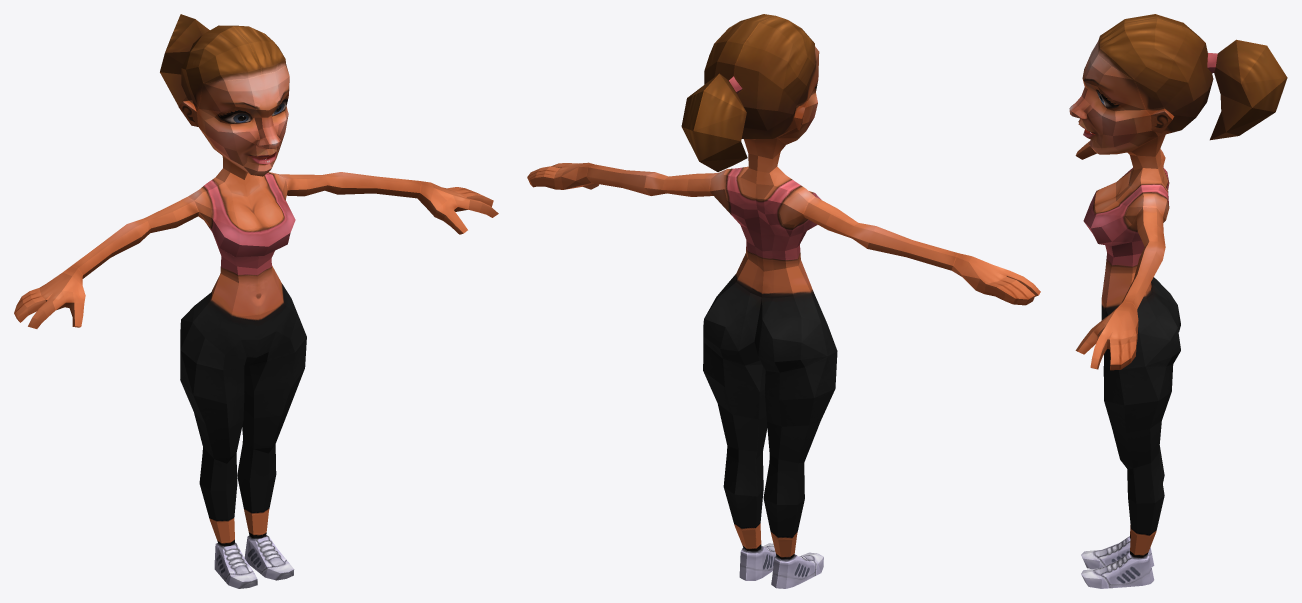
The model's file is MFD_Girl.fbx.
3 renders of one model, left to right at view 1: azimuth 30°, elevation 25°; view 2: azimuth 150°, elevation 25°; view 3: azimuth 270°, elevation 25°, orthographic. The views are drawn at different scales.
Visible parts, largest first — view 1: Cube_004; view 2: Cube_004; view 3: Cube_004.
Boxes of the visible parts, x1,y1,x2,y2 form: Cube_004: [14, 14, 498, 588]; Cube_004: [527, 14, 1040, 588]; Cube_004: [1069, 14, 1287, 588].
Size of the model in its own units: 6.02 by 6.42 by 2.29.
1 material, 1 textured.
